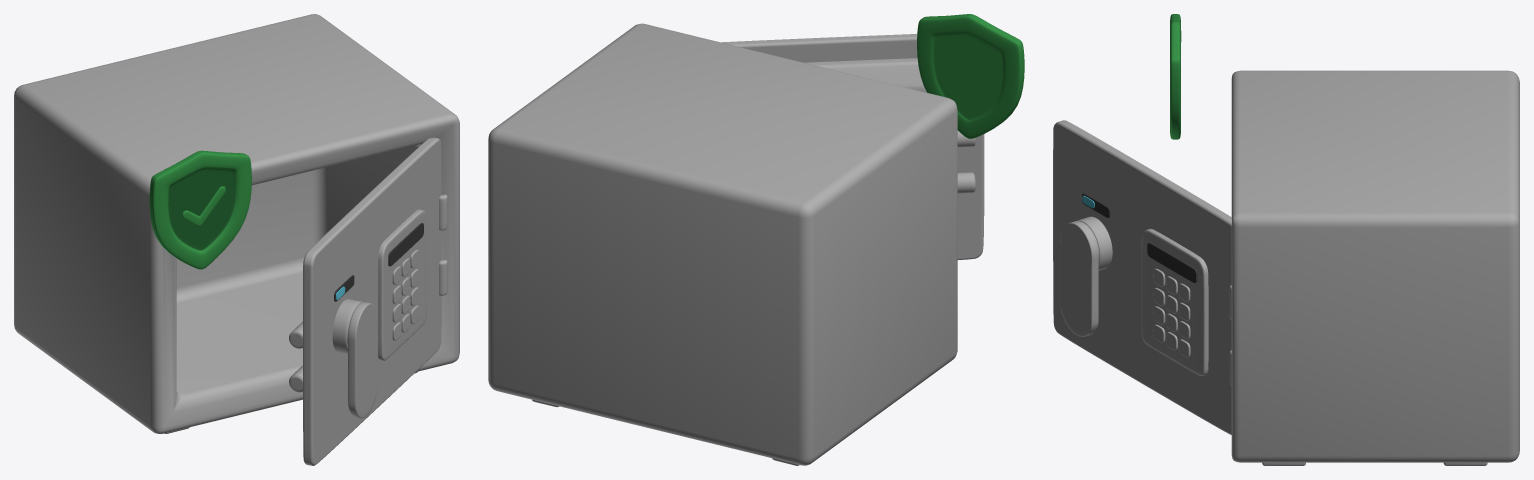
Rendered from safety-box-3d-animated-icon-275091851492.glb.
3 views of the same model, side by side, from view 1: azimuth 30°, elevation 25°; view 2: azimuth 150°, elevation 25°; view 3: azimuth 270°, elevation 25° (orthographic). The views are drawn at different scales.
Parts seen in each view (by area): view 1: Cube, Cube.001, Cube.007, Cylinder, Cube.002, Plane.001, Cylinder.003, Plane, Cylinder.002, Cube.004; view 2: Cube, Cube.007, Cube.001, Cube.003, Cylinder.002; view 3: Cube, Cube.001, Cube.002, Cylinder, Plane.001, Cube.007, Plane.
Part boxes in pixels (box(x1,y1,x2,y2)): Cube: box(14, 14, 459, 433); Cube.001: box(303, 137, 441, 465); Cube.007: box(149, 150, 251, 269); Cylinder: box(332, 299, 377, 418); Cube.002: box(378, 209, 426, 360); Plane.001: box(392, 249, 419, 340); Cylinder.003: box(439, 194, 447, 295); Plane: box(388, 223, 423, 266); Cylinder.002: box(289, 321, 302, 392); Cube.004: box(182, 186, 225, 226); Cube: box(488, 23, 957, 465); Cube.007: box(917, 14, 1024, 138); Cube.001: box(721, 34, 984, 259); Cube.003: box(804, 58, 926, 92); Cylinder.002: box(957, 130, 975, 193); Cube: box(1231, 70, 1519, 462); Cube.001: box(1053, 120, 1231, 434); Cube.002: box(1141, 228, 1208, 376); Cylinder: box(1060, 216, 1112, 336); Plane.001: box(1153, 268, 1190, 357); Cube.007: box(1170, 14, 1181, 139); Plane: box(1147, 243, 1197, 282).
Bounding box in the file's own units: 2.18 × 1.94 × 2.6.
